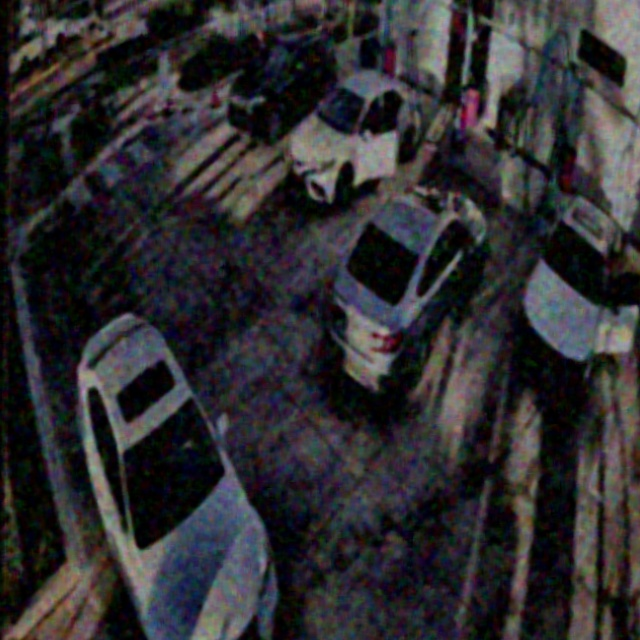Car: (57, 306, 298, 640), (318, 172, 491, 407), (283, 62, 426, 210)
